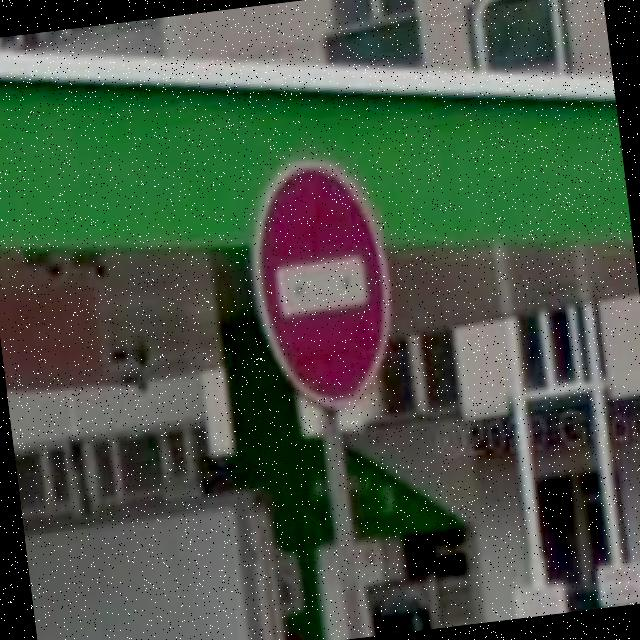Zakaz wjazdu: (240, 154, 404, 418)
